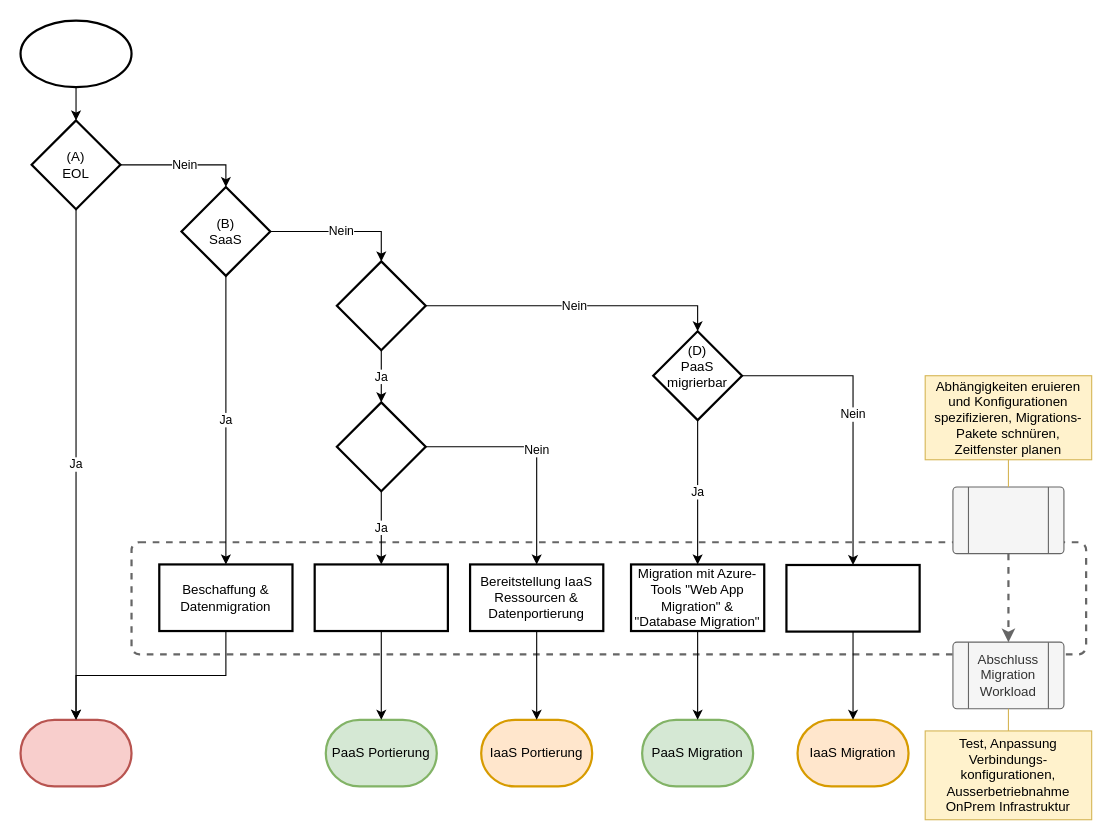
The diagram is 1111 pixels wide and 839 high, and some of its shapes have lost their labels. Each missing label, with the box of its shape:
(C1) Re-Setup: (335, 260, 426, 351)
(C2) PaaS kompatibel: (335, 401, 426, 492)
Bereitstellung PaaS Ressourcen & Datenportierung: (313, 563, 448, 632)
Fachapplikation: (19, 19, 132, 88)
Keine Migration: (19, 718, 132, 787)
Migration mit Azure Site Recovery & Tool "Database Migration": (785, 563, 920, 632)
Workload Planung: (952, 486, 1064, 554)
